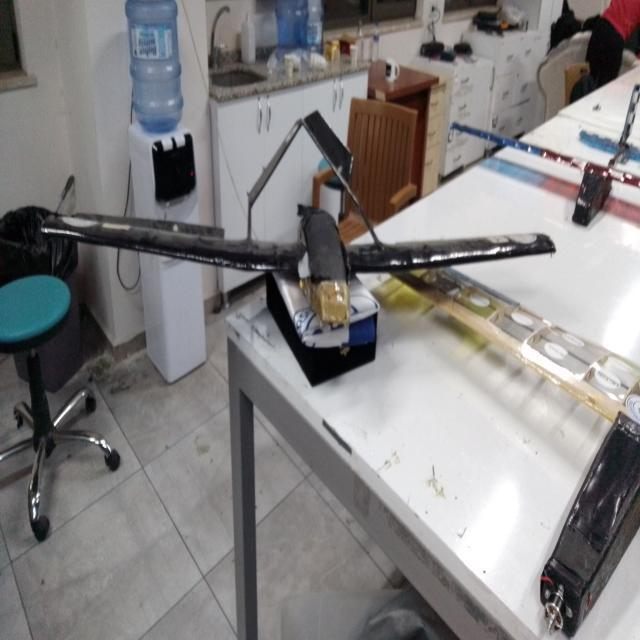iha: (23, 95, 556, 293), (439, 51, 637, 210)
